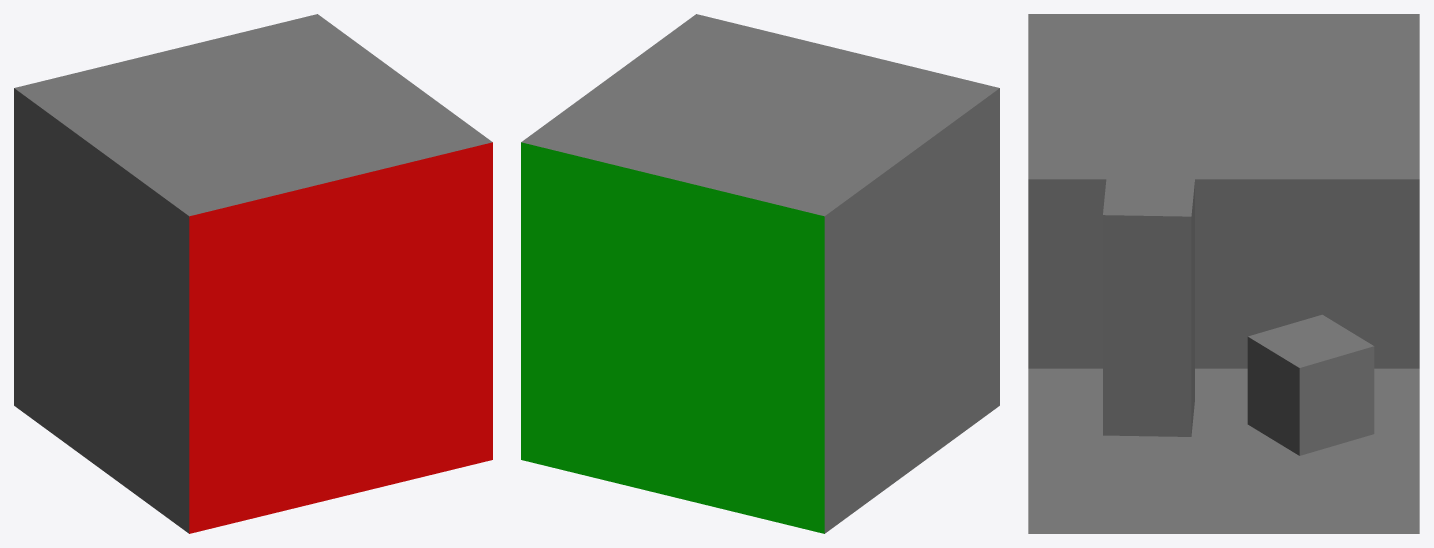
The model's file is cornellSmall.obj.
3 views of the same model, side by side, from view 1: azimuth 30°, elevation 25°; view 2: azimuth 150°, elevation 25°; view 3: azimuth 270°, elevation 25° (orthographic). The views are drawn at different scales.
Parts seen in each view (by area): view 1: pCube1 polySurface1 polySurface4, pCube1 polySurface3 polySurface1; view 2: pCube1 polySurface1 polySurface4, polySurface2 pCube1; view 3: pCube1 polySurface1 polySurface4, pCube2, pCube3.
Boxes of the visible parts, x1,y1,x2,y2 form: pCube1 polySurface1 polySurface4: (14, 14, 492, 533); pCube1 polySurface3 polySurface1: (189, 142, 492, 533); pCube1 polySurface1 polySurface4: (521, 14, 999, 533); polySurface2 pCube1: (521, 142, 824, 533); pCube1 polySurface1 polySurface4: (1028, 14, 1419, 533); pCube2: (1103, 179, 1194, 436); pCube3: (1247, 314, 1374, 455).
Size of the model in its own units: 10.67 by 10.67 by 10.67.
